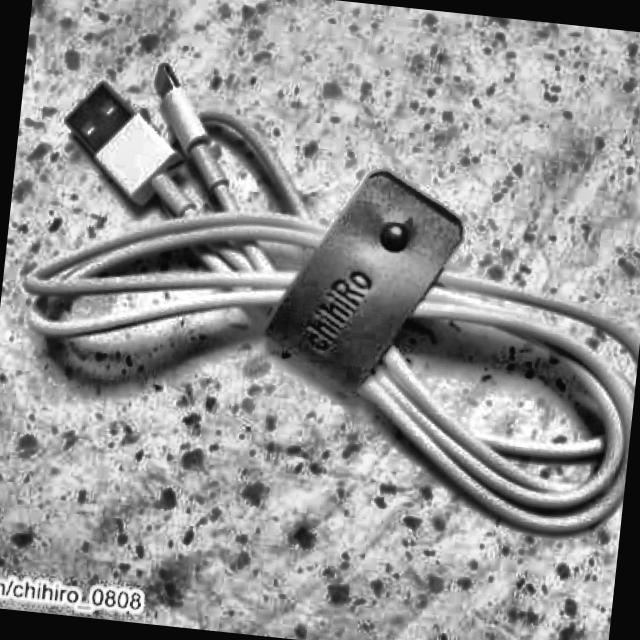Cable: (4, 46, 640, 541)
